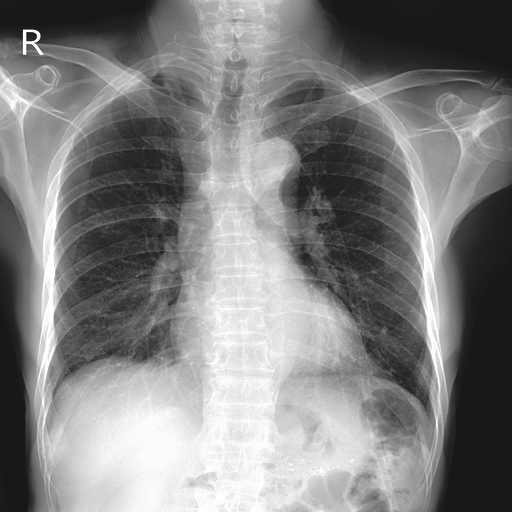Calcification: (125, 66, 207, 88), (269, 72, 335, 87)
Consolidation: (245, 140, 301, 199)
Lung Opacity: (269, 72, 335, 87)
